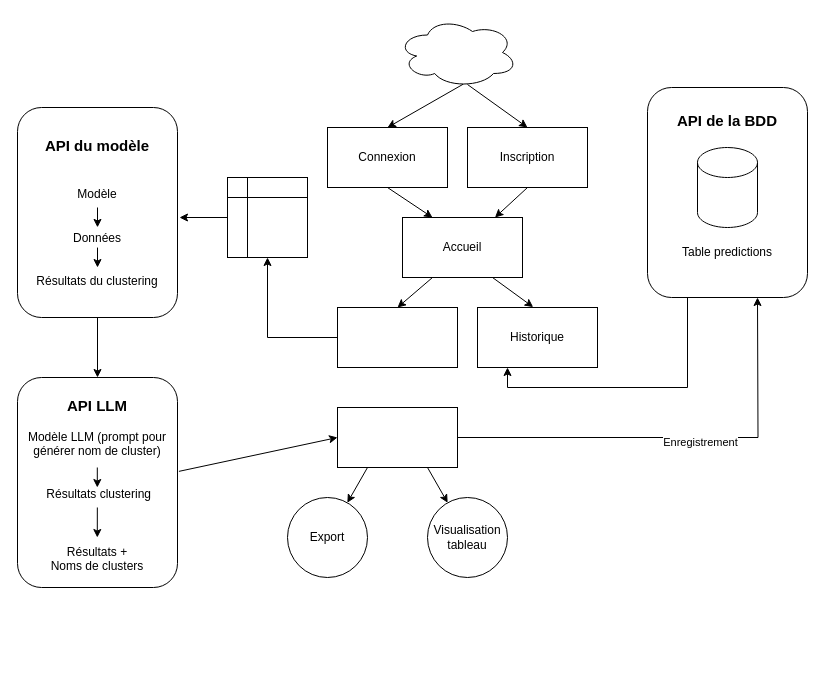
Some shapes in this 825 by 677 pixel diagram are drawn without their labels. The shapes that lost their labels are listed below. From the top down, each one's centre as x and y in pixels, then its label:
At (x=457, y=52): "Utilisateurs".
At (x=267, y=217): "uploaded file".
At (x=397, y=337): "Nouveau clustering".
At (x=397, y=437): "Résultats".
